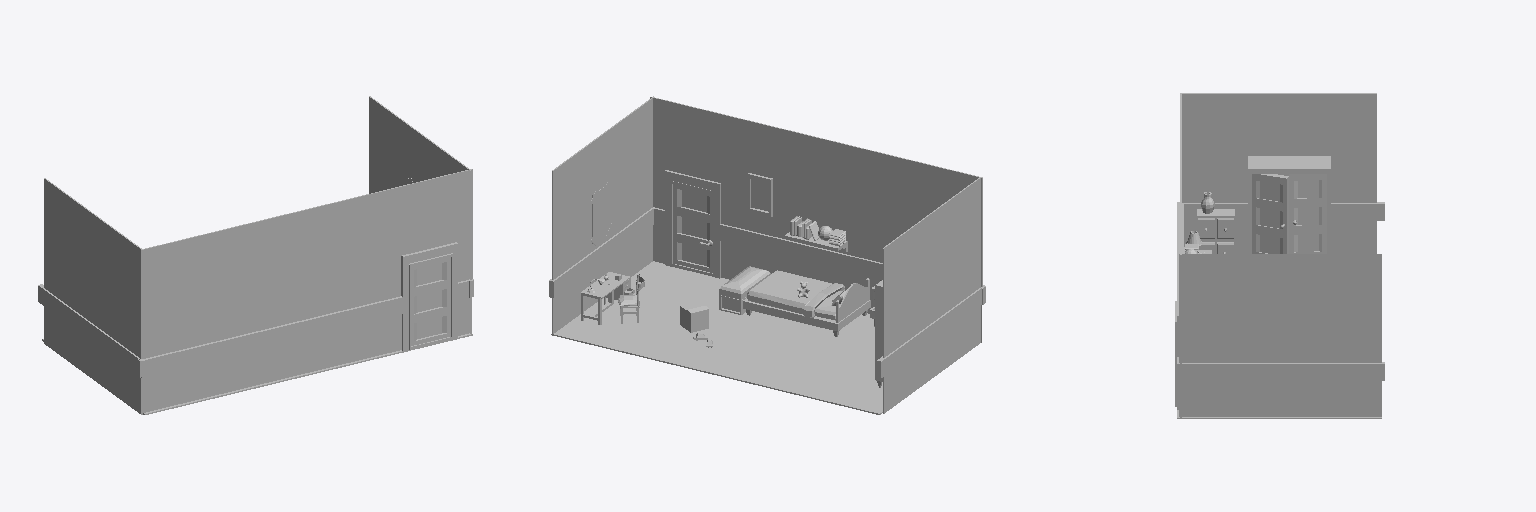
Rendered from habJohnny.obj.
3 renders of one model, left to right at view 1: azimuth 30°, elevation 25°; view 2: azimuth 150°, elevation 25°; view 3: azimuth 270°, elevation 25°, orthographic.
Visible parts, largest first — view 1: HabJohnny Pared_Medio, HabJohnny Pared_Der, HabJohnny Pared_Fondo, HabJohnny Pared_Izq, HabJohnny Madera_Medio, HabJohnny Puerta, HabJohnny Pared_Der1, HabJohnny Madera_Der, HabJohnny Marco_Puerta, HabJohnny Suelo; view 2: HabJohnny Pared_Medio, HabJohnny Suelo, HabJohnny Pared_Der, HabJohnny Pared_Izq, HabJohnny Puerta, HabJohnny Pared_Der1, HabJohnny Pared_Fondo, HabJohnny Madera_Medio, HabJohnny Pared_Izq1, HabJohnny Cama Colchon_Cama, HabJohnny Madera_Der, HabJohnny Madera_Izq (+7 smaller); view 3: HabJohnny Pared_Izq, HabJohnny Pared_Der, HabJohnny Pared_Izq1, HabJohnny Madera_Izq, HabJohnny Armario pCube57 Puerta_Der, HabJohnny Puerta_Izq Armario pCube55, HabJohnny Armario Armario, HabJohnny Pared_Der1, HabJohnny Madera_Der, HabJohnny Cajonera, HabJohnny Pared_Medio.
Part boxes in pixels (x1,y1,x2,y2): HabJohnny Pared_Medio: (140, 169, 472, 358); HabJohnny Pared_Der: (44, 178, 142, 358); HabJohnny Pared_Fondo: (141, 298, 469, 414); HabJohnny Pared_Izq: (369, 96, 471, 279); HabJohnny Madera_Medio: (137, 280, 468, 377); HabJohnny Puerta: (409, 253, 452, 349); HabJohnny Pared_Der1: (44, 307, 142, 414); HabJohnny Madera_Der: (38, 284, 146, 377); HabJohnny Marco_Puerta: (401, 242, 457, 352); HabJohnny Suelo: (42, 333, 472, 414); HabJohnny Pared_Medio: (650, 97, 982, 286); HabJohnny Suelo: (551, 261, 882, 414); HabJohnny Pared_Der: (883, 177, 980, 357); HabJohnny Pared_Izq: (552, 96, 653, 279); HabJohnny Puerta: (671, 181, 713, 276); HabJohnny Pared_Der1: (883, 306, 980, 413); HabJohnny Pared_Fondo: (653, 225, 981, 342); HabJohnny Madera_Medio: (654, 208, 985, 304); HabJohnny Pared_Izq1: (552, 226, 652, 335); HabJohnny Cama Colchon_Cama: (747, 270, 844, 320); HabJohnny Madera_Der: (877, 285, 984, 377); HabJohnny Madera_Izq: (549, 207, 654, 297); HabJohnny Pared_Izq: (1179, 254, 1381, 362); HabJohnny Pared_Der: (1180, 93, 1376, 202); HabJohnny Pared_Izq1: (1179, 381, 1381, 416); HabJohnny Madera_Izq: (1177, 362, 1384, 380); HabJohnny Armario pCube57 Puerta_Der: (1289, 174, 1326, 253); HabJohnny Puerta_Izq Armario pCube55: (1252, 174, 1288, 253); HabJohnny Armario Armario: (1248, 156, 1330, 253); HabJohnny Pared_Der1: (1184, 221, 1376, 253); HabJohnny Madera_Der: (1177, 202, 1384, 220); HabJohnny Cajonera: (1197, 209, 1234, 253); HabJohnny Pared_Medio: (1180, 94, 1181, 364).
Bounding box in the file's own units: 75.94 × 35.97 × 41.26.